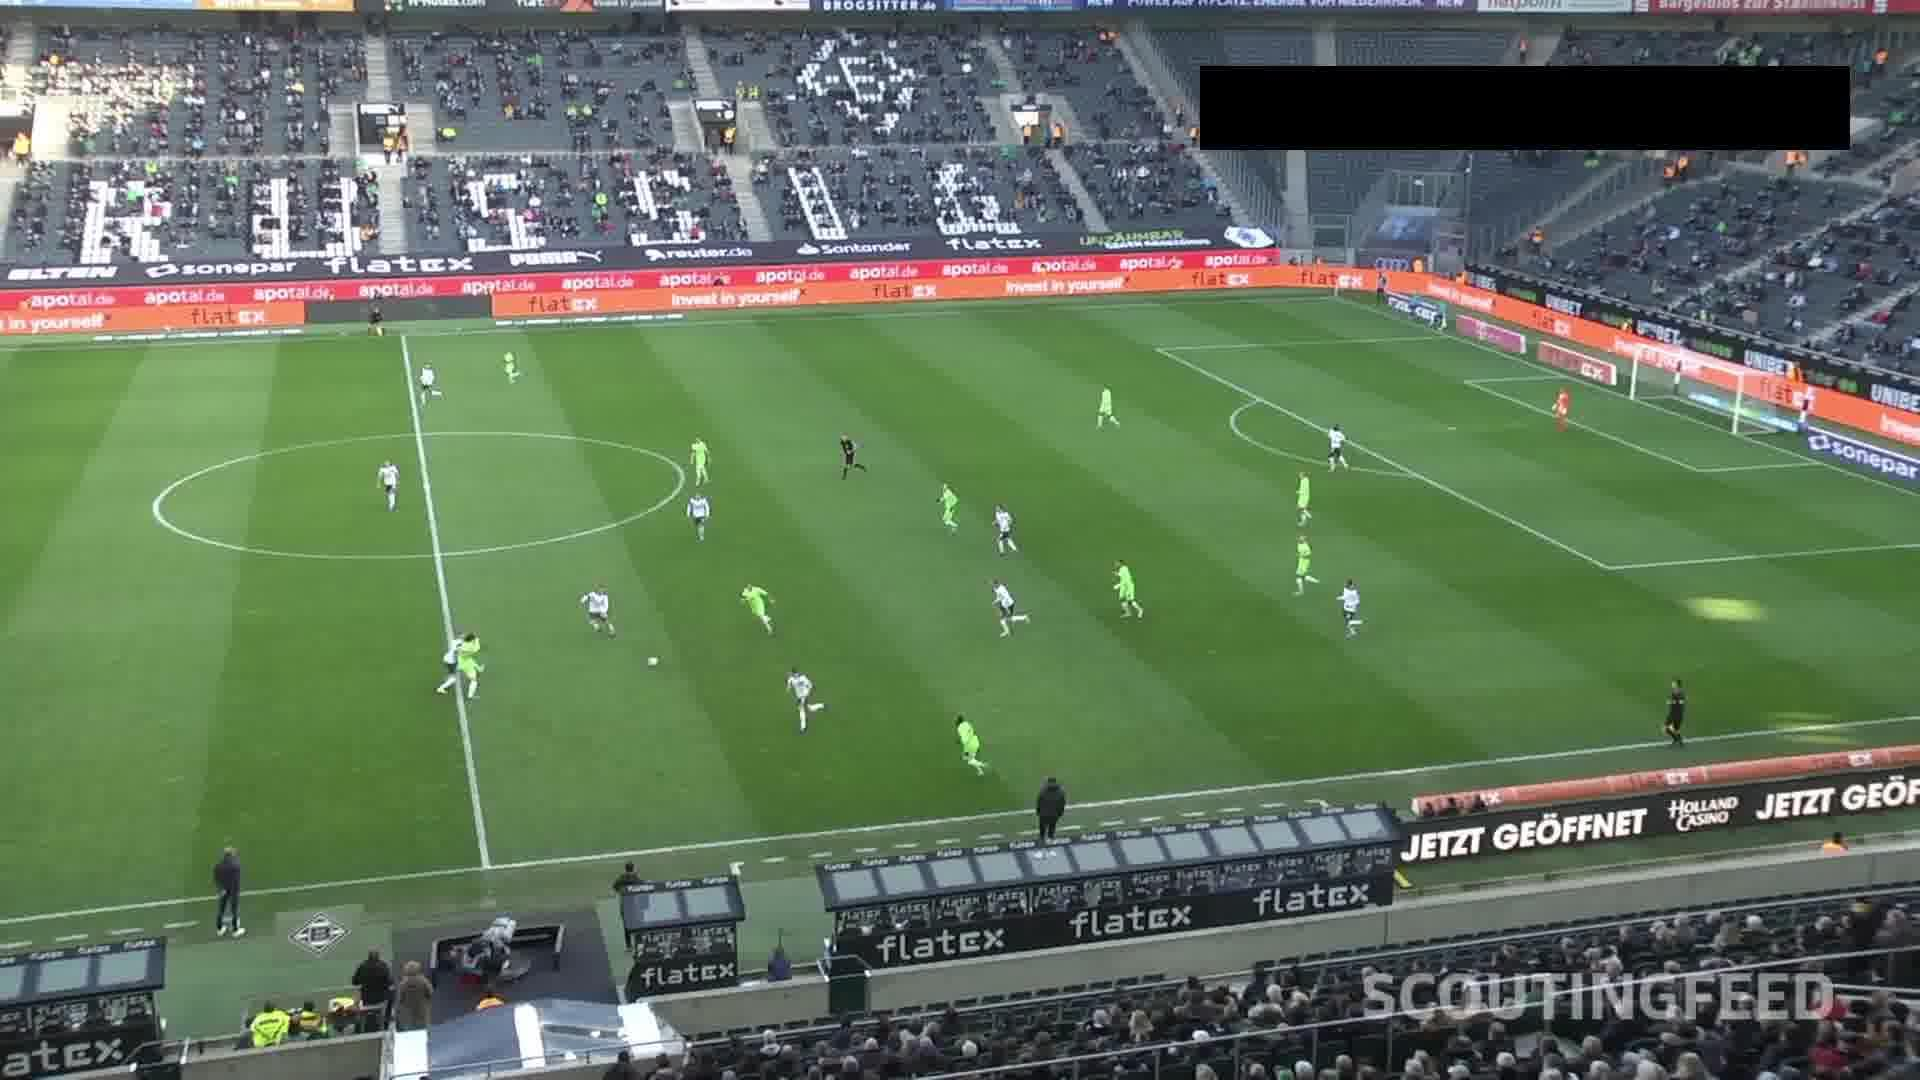football: (646, 655, 659, 669)
